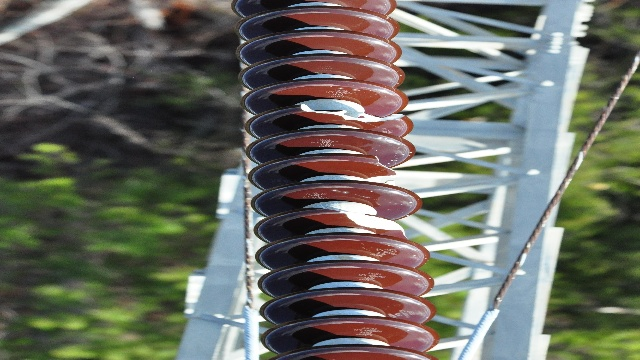broken_local: (317, 207, 414, 240), (298, 103, 412, 122)
insulator_unspecified: (227, 0, 443, 358)
